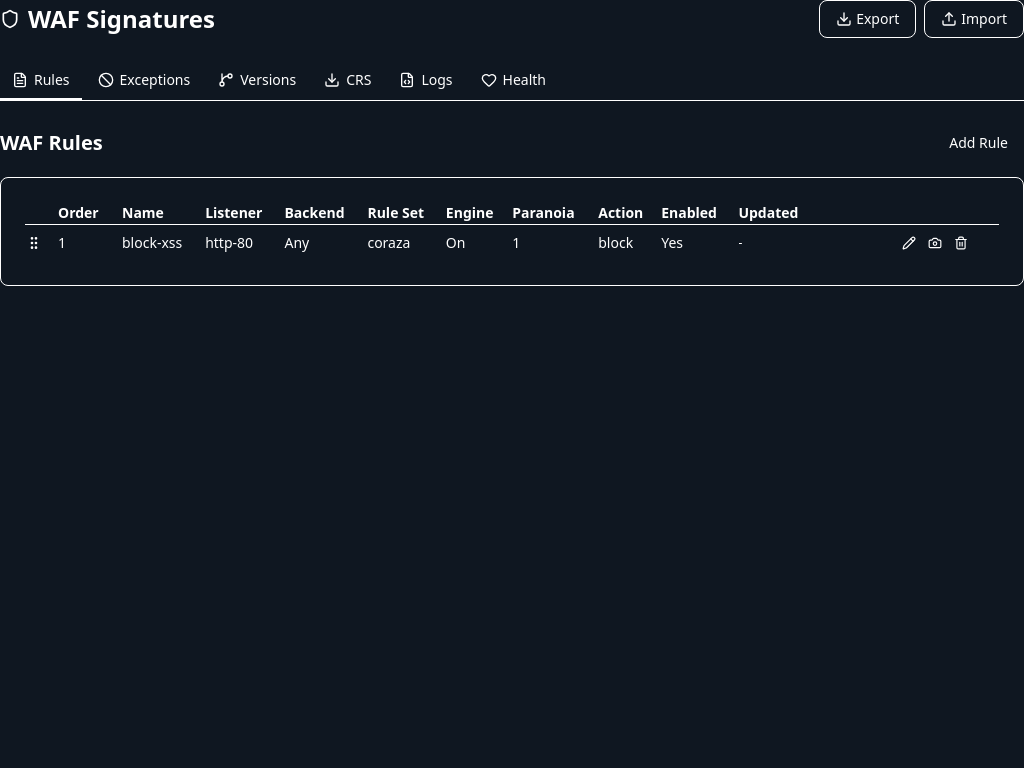
Test: Waf page › opens the Add Rule modal
expect the heading "WAF Signatures" is shown: met, box [0, 3, 215, 35]
Click the button "Add Rule".
click(979, 143)  # box [933, 125, 1023, 161]
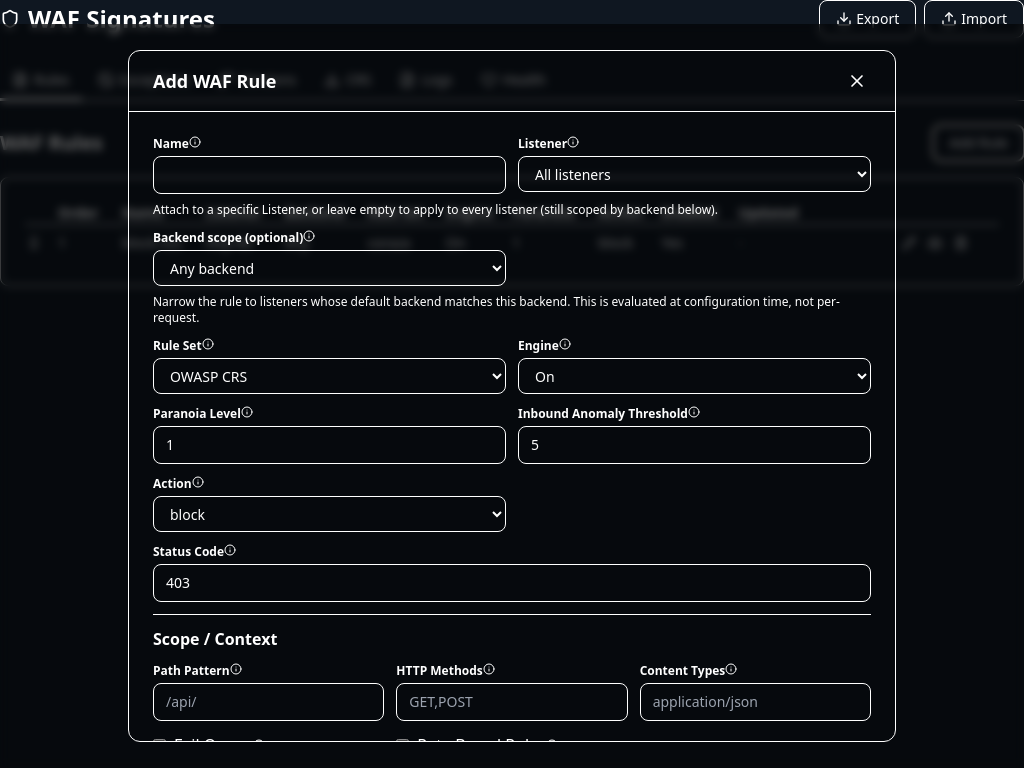
expect the heading "Add WAF Rule" is shown: met, box [153, 67, 276, 95]
